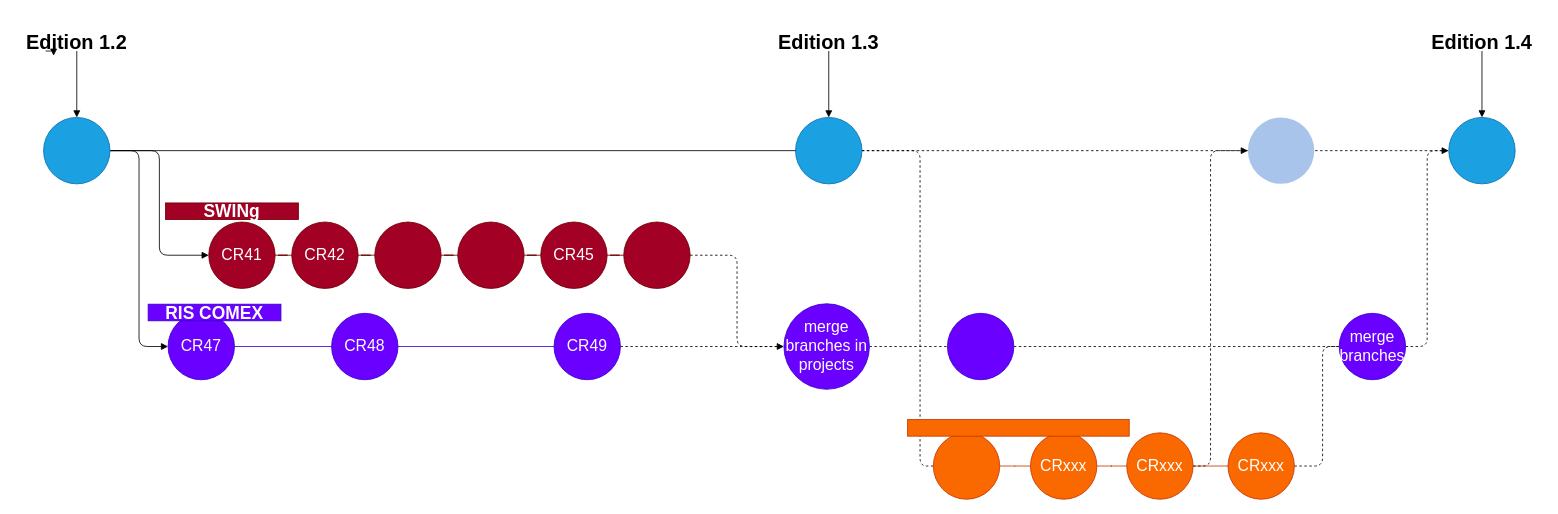
Some shapes in this 1558 by 514 pixel diagram are drawn without their labels. Each missing label, with the centre of its shape:
biject: point 966,465
bijection EDIFACT: point 1018,427
CR43: point 407,254
CR44: point 490,254
CR46: point 656,254
CRxx: point 980,346
